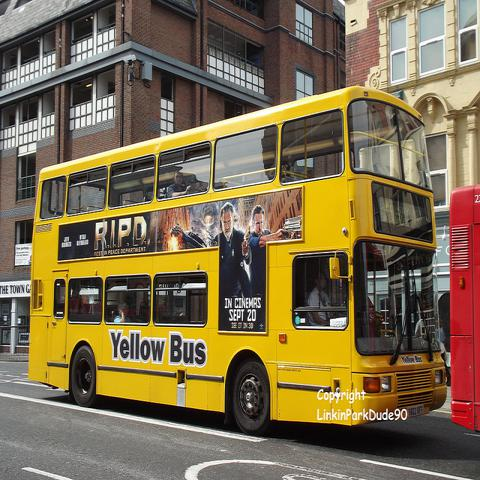bus: (28, 88, 446, 436), (442, 183, 480, 439)
